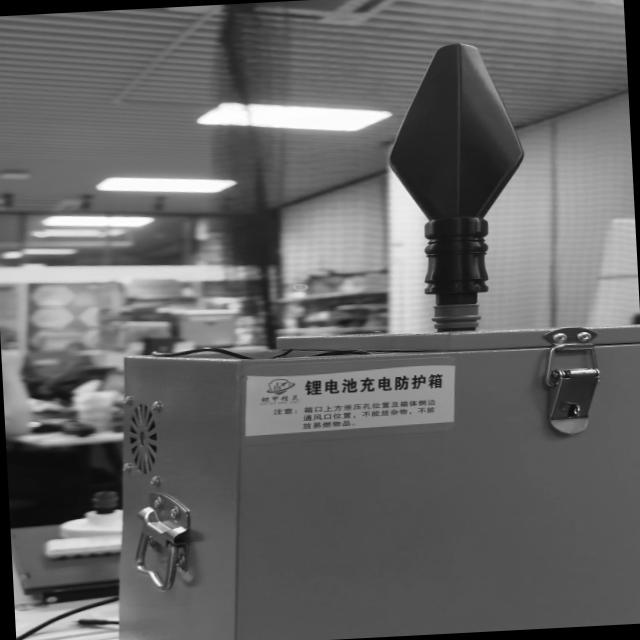base: (432, 302, 482, 334)
